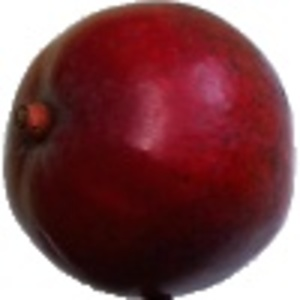manga: (3, 1, 297, 300)
